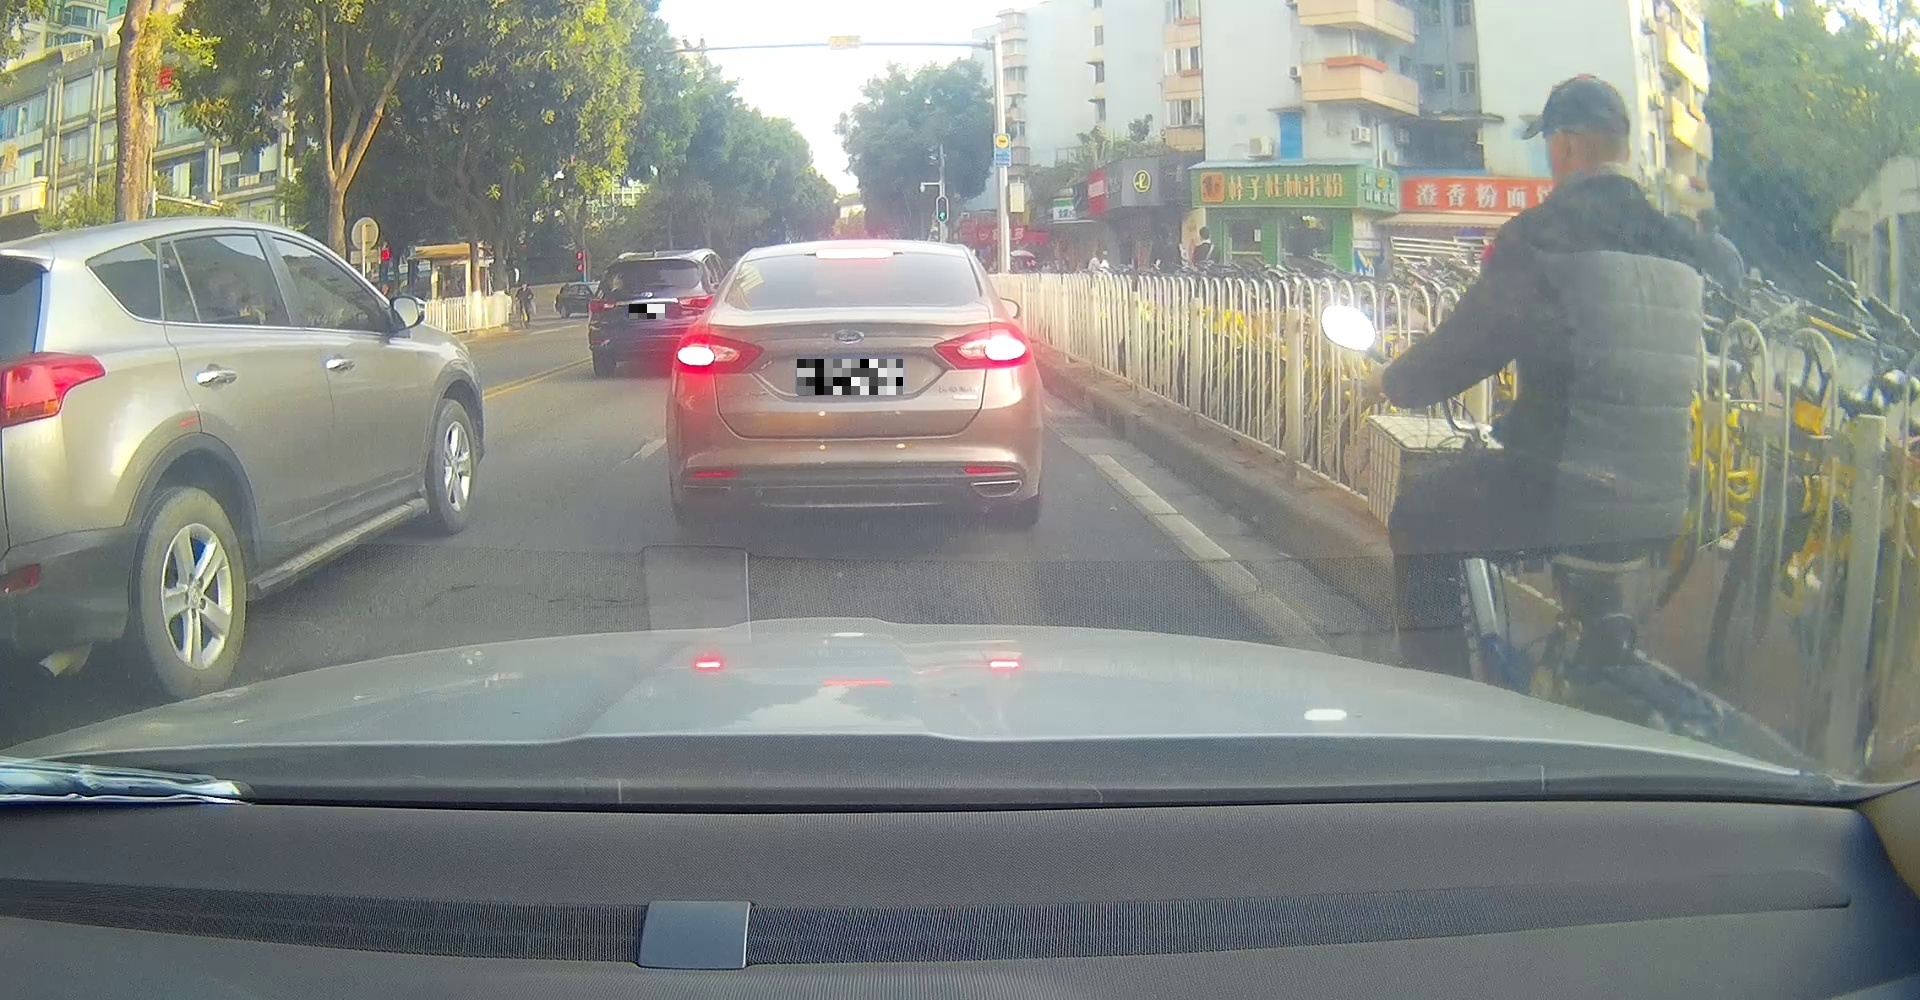L_light: (670, 332, 764, 374)
R_light: (931, 324, 1032, 371)
T_light: (815, 249, 894, 259)
day-brake: (665, 240, 1043, 530)
plate_1: (629, 305, 665, 319)
plate_2: (797, 359, 903, 395)
